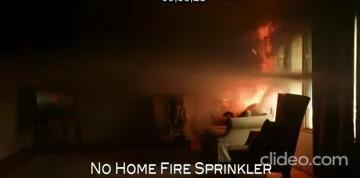fire: (250, 24, 278, 76), (242, 88, 266, 110)
